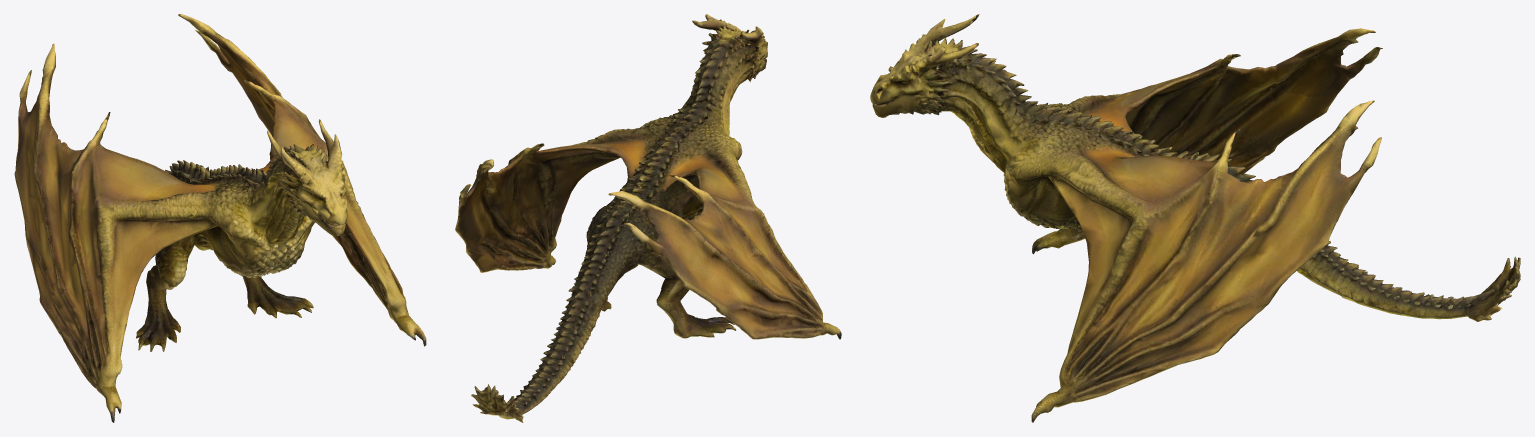
File: mx_dr_golddragon.glb
3 renders of one model, left to right at view 1: azimuth 30°, elevation 25°; view 2: azimuth 150°, elevation 25°; view 3: azimuth 270°, elevation 25°, orthographic. The views are drawn at different scales.
Visible parts, largest first — view 1: Mesh_0; view 2: Mesh_0; view 3: Mesh_0.
Part boxes in pixels (bbox=[...]): Mesh_0: bbox=[14, 14, 426, 422]; Mesh_0: bbox=[455, 14, 841, 422]; Mesh_0: bbox=[870, 14, 1520, 422].
Size of the model in its own units: 1.19 by 1 by 1.9.
1 material, 1 textured.
